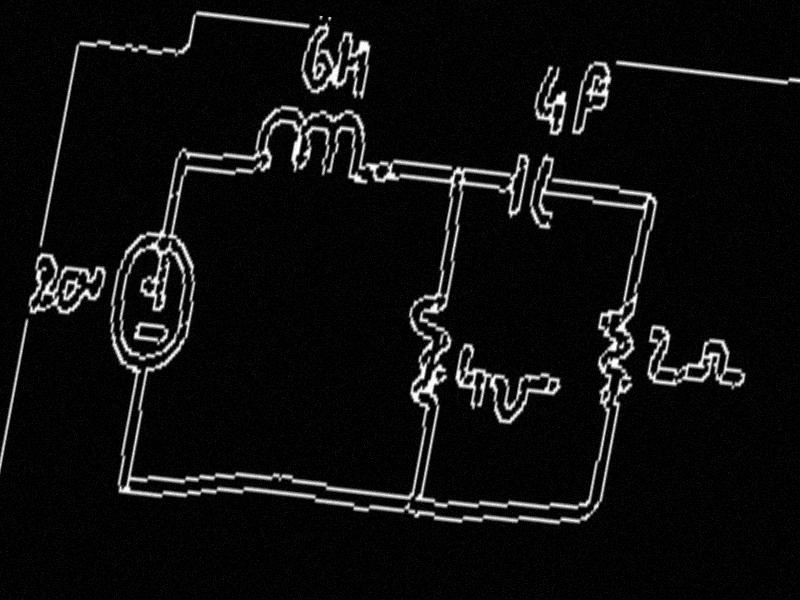-: (129, 318, 172, 348)
0: (51, 259, 96, 318)
2: (632, 320, 690, 389), (25, 248, 65, 318)
4: (524, 61, 576, 143), (446, 338, 494, 415)
6: (293, 20, 344, 99)
F: (566, 58, 619, 142)
V: (480, 363, 566, 432)
k: (327, 27, 378, 106)
